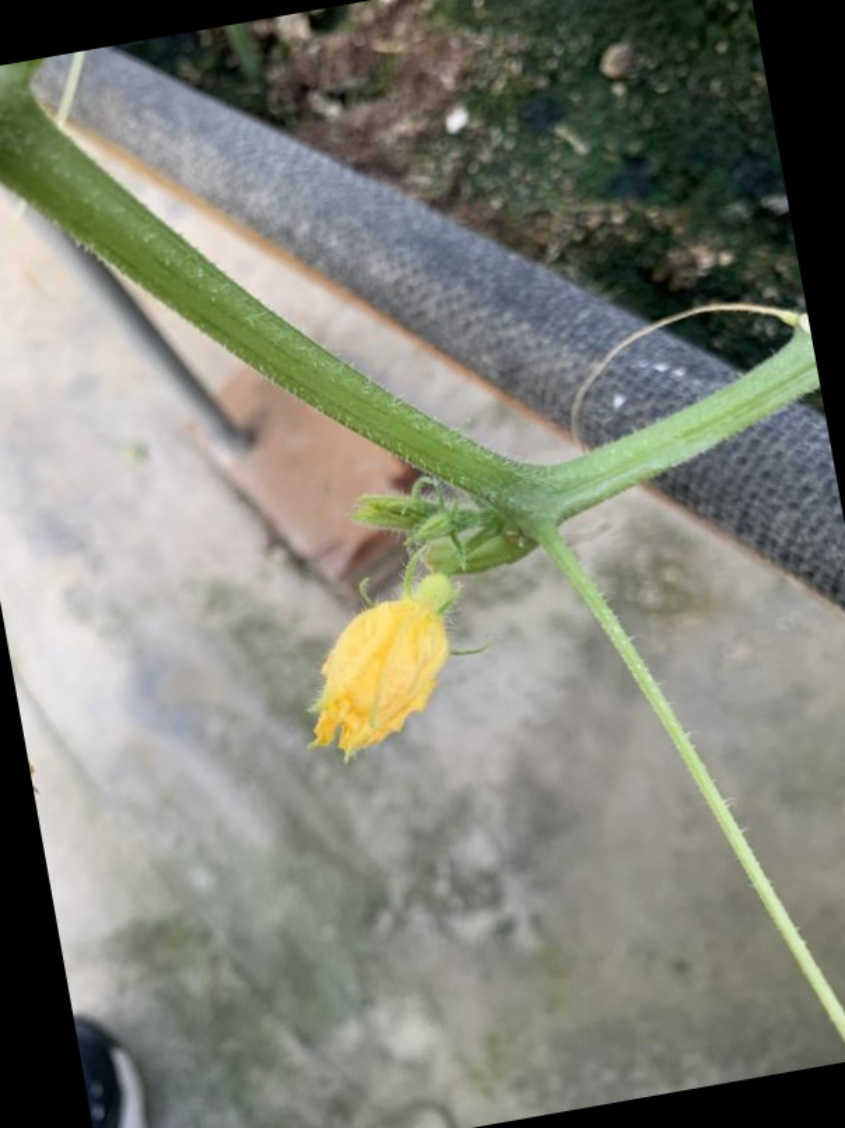bud: (246, 544, 492, 777)
